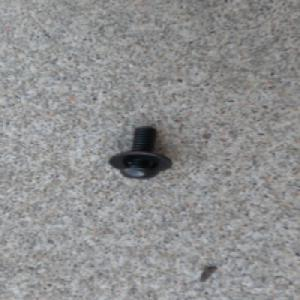BoltWasher: (106, 124, 173, 181)
